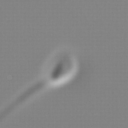normal: (1, 79, 45, 123)
